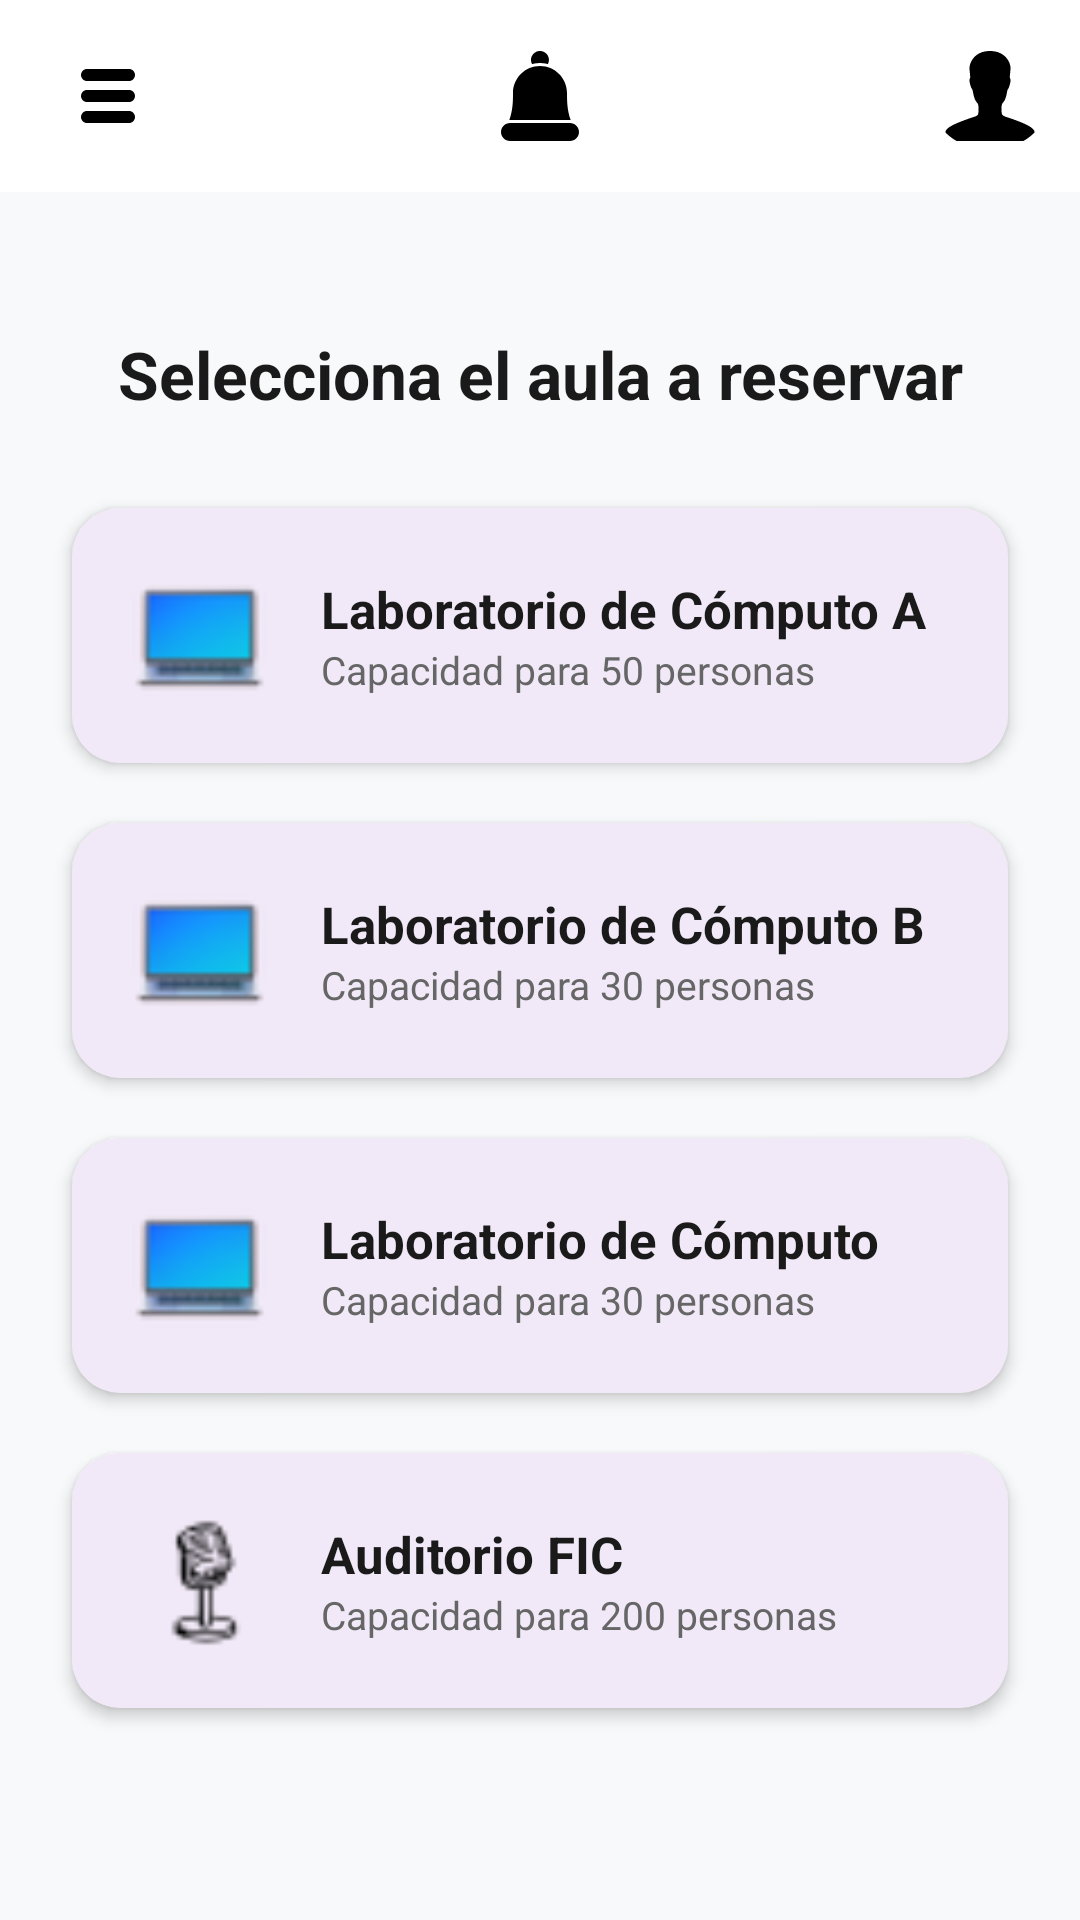

Named icons in this screenshot (1080×1920) and their bounding boxes, (x1=x1, y1=y1, x2=x2, y2=y2):
Foto de perfil: (x1=945, y1=51, x2=1035, y2=141)
laptop: (x1=137, y1=589, x2=262, y2=687), (x1=137, y1=904, x2=262, y2=1002), (x1=137, y1=1219, x2=262, y2=1317)
Menú: (x1=81, y1=69, x2=135, y2=123)
microfono: (x1=171, y1=1521, x2=238, y2=1645)
Notificaciones: (x1=501, y1=51, x2=579, y2=141)
